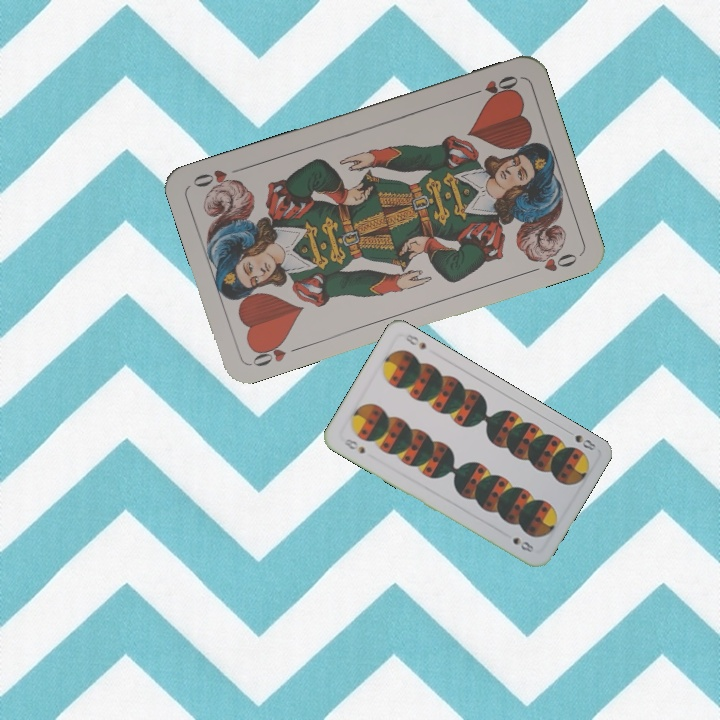HO: (247, 335, 305, 369), (464, 71, 521, 101)
S8: (562, 425, 598, 453), (340, 434, 368, 456)
